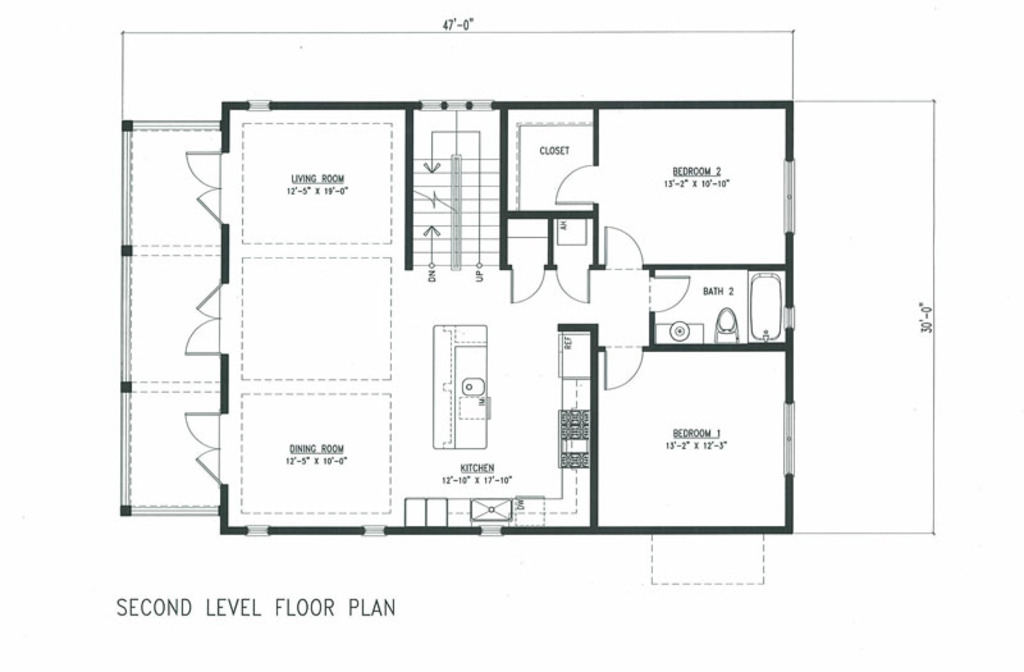door: (180, 282, 224, 364), (183, 150, 226, 220), (180, 408, 221, 481), (553, 162, 598, 208), (599, 223, 644, 269), (646, 271, 694, 312), (602, 346, 644, 390), (509, 264, 546, 304), (552, 268, 593, 303)
kitchen_bar: (426, 320, 494, 452)
large_sink: (708, 307, 741, 347)
small_sink: (656, 320, 705, 346)
stairs: (411, 109, 506, 290)
tub: (741, 266, 787, 340)
windows: (780, 398, 796, 479), (780, 158, 796, 238), (416, 98, 496, 112)
